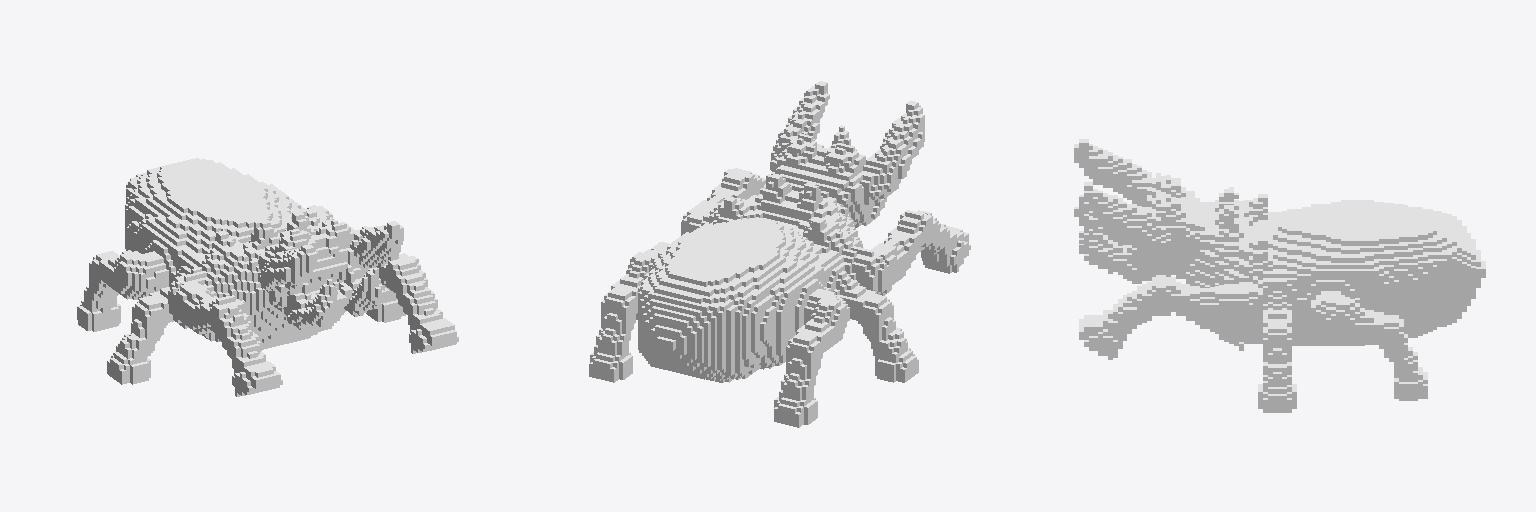
Rendered from beetle_attack_blue_v2-1.obj.
3 views of the same model, side by side, from view 1: azimuth 30°, elevation 25°; view 2: azimuth 150°, elevation 25°; view 3: azimuth 270°, elevation 25° (orthographic).
Parts seen in each view (by area): view 1: object 1; view 2: object 1; view 3: object 1.
Boxes of the visible parts, x1=… form: object 1: x1=77, y1=158, x2=458, y2=396; object 1: x1=589, y1=81, x2=970, y2=427; object 1: x1=1074, y1=139, x2=1485, y2=412.
Size of the model in its own units: 6.8 by 4.2 by 8.5.